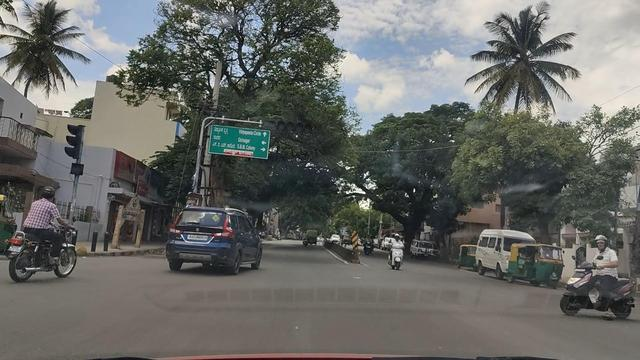LMV: (161, 206, 263, 281), (15, 182, 76, 278)
